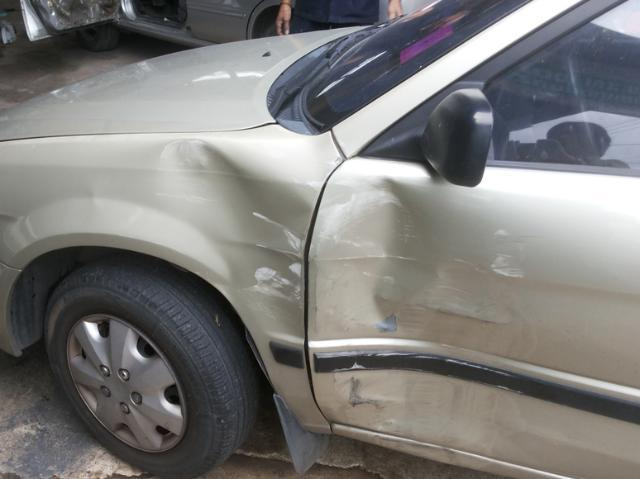Door: (308, 144, 640, 471), (65, 128, 309, 479)
